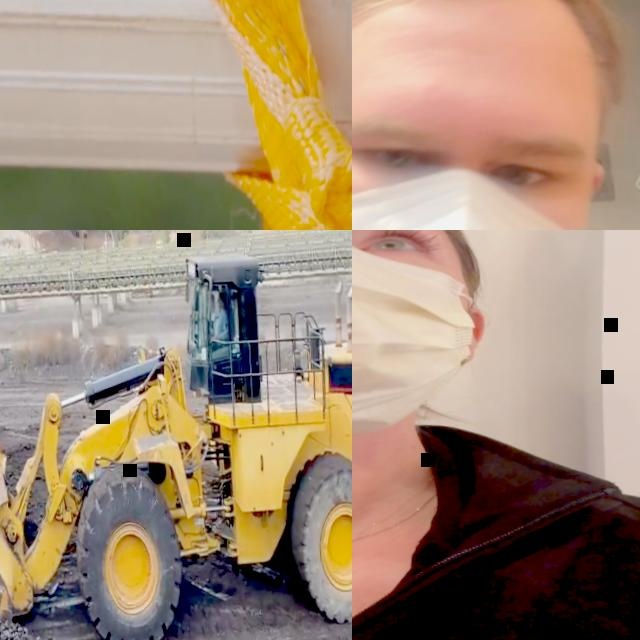Mask: (352, 230, 488, 445), (352, 159, 595, 230)
NO-Hardhat: (352, 0, 619, 124), (216, 292, 224, 303)
NO-Mask: (215, 302, 220, 307)
NO-Safety Vest: (352, 422, 640, 640), (213, 310, 227, 338)
Person: (352, 230, 640, 640), (352, 0, 640, 230), (207, 292, 227, 344)
machinery: (0, 230, 352, 640)
